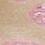plaque psoriasis: (28, 0, 45, 26), (0, 39, 44, 45)
